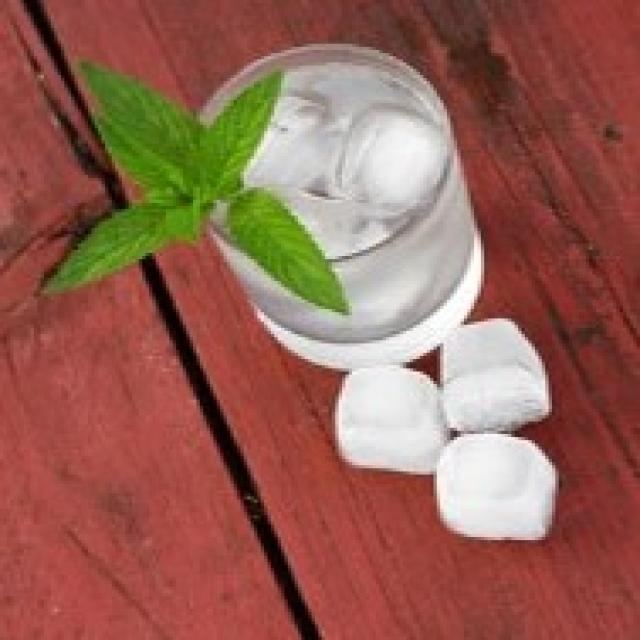electronic: (192, 44, 486, 368)
